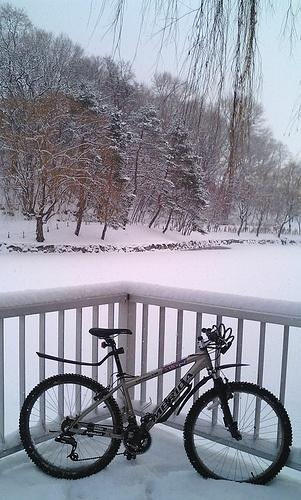bicycle: (18, 323, 293, 485)
